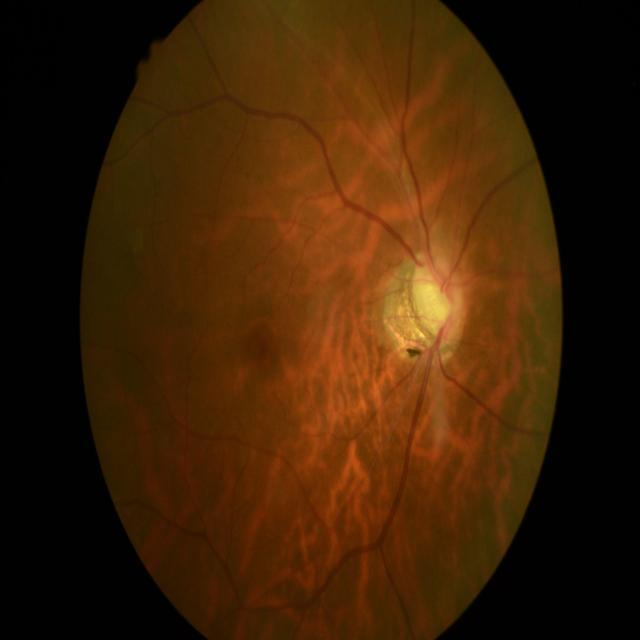cup: (412, 266, 454, 338)
disk: (408, 250, 466, 345)
